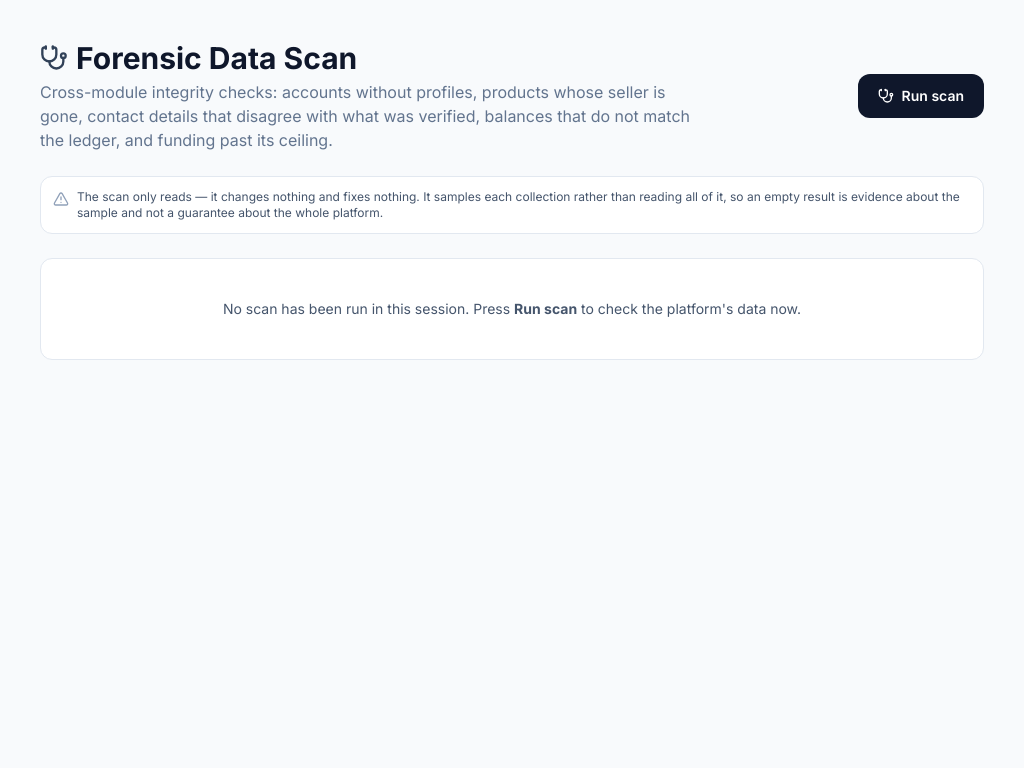
Scenario: #266 — what it shows when the scan does run › RENDERS THE FINDINGS, WITH THE AFFECTED RECORDS
Click the button "Run scan" at (921, 96), box [858,74,984,118]
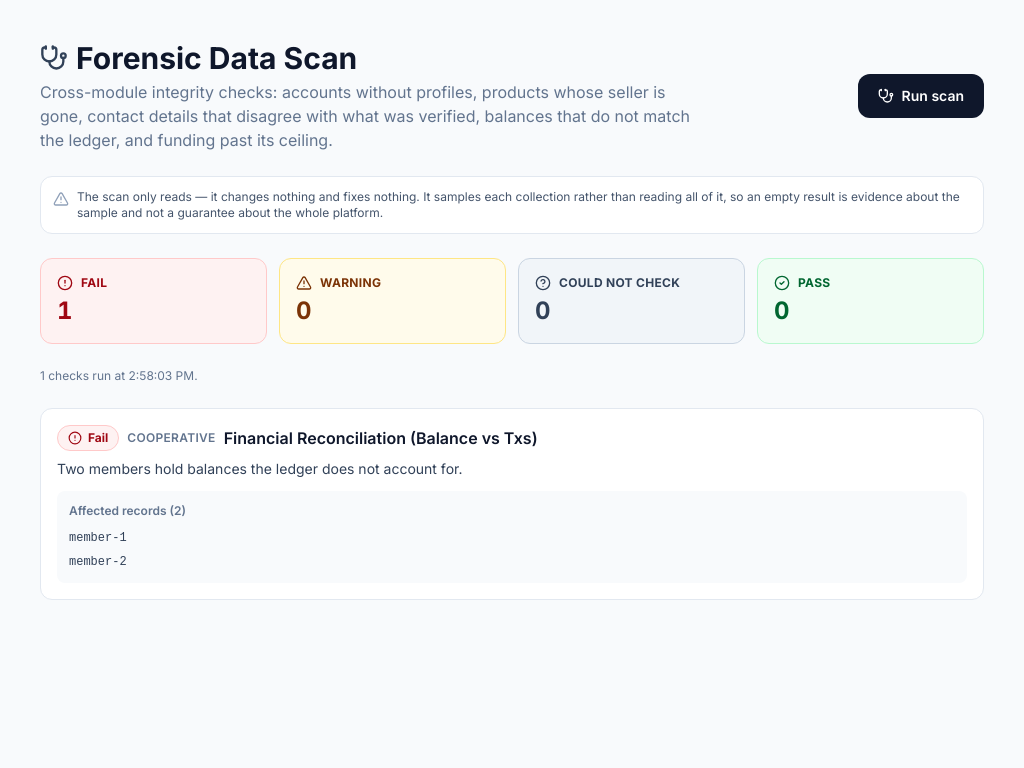
Now the text "Financial Reconciliation (Balance vs Txs)" is shown, box [224,426,538,450]
Now the text "Two members hold balances the ledger does not account for." is shown, box [57,460,462,477]
Now the text "member-1 member-2" is shown, box [69,531,127,569]
